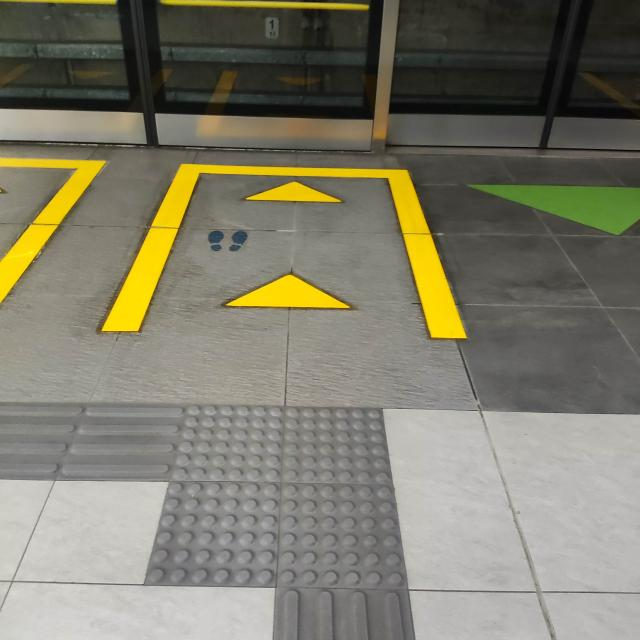kiri: (9, 343, 463, 640)
